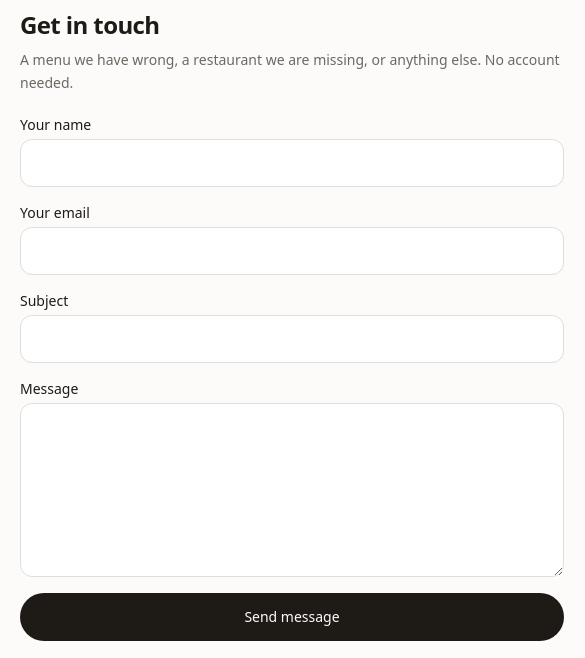
Test: ContactPage › sends what was typed
The image size is (585, 658).
Expected: the button "Send message" is shown, [20, 592, 564, 640]
In the field labelled "Your name": coordinates (292, 162) [20, 138, 564, 186], type "Luis"
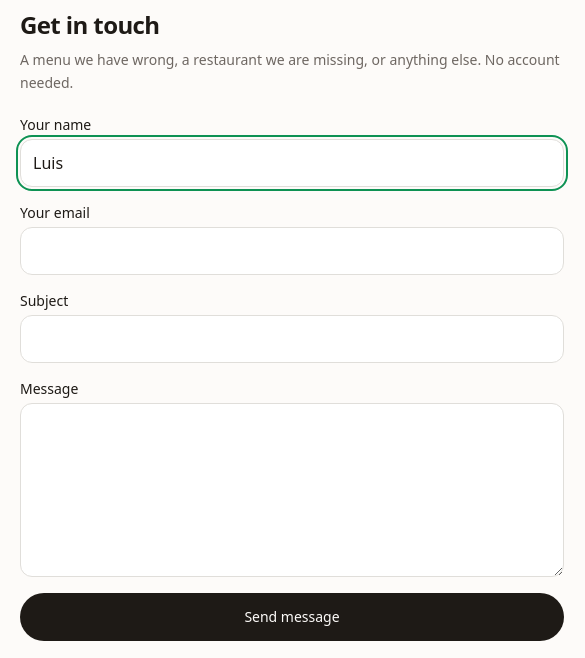
In the field labelled "Your email": coordinates (292, 250) [20, 226, 564, 274], type "luis@example.invalid"
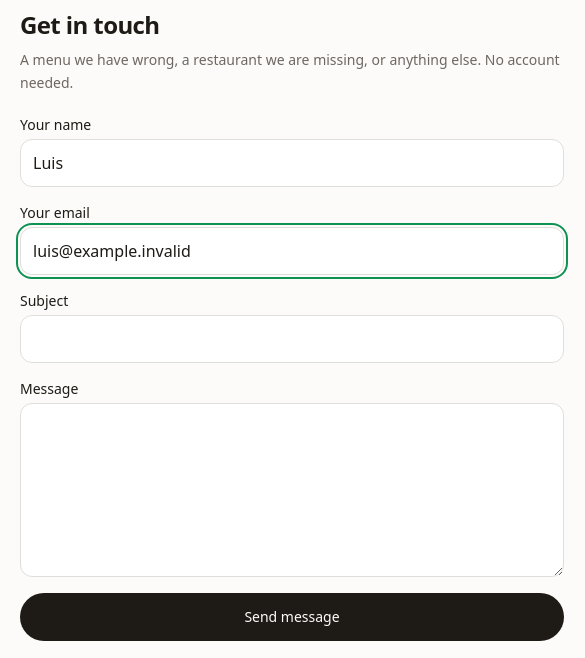
In the field labelled "Subject": coordinates (292, 338) [20, 314, 564, 362], type "A missing restaurant"
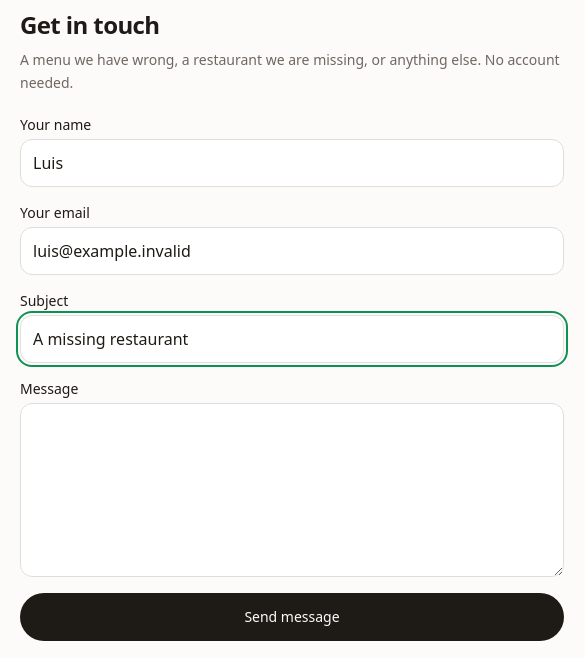
In the text box labelled "Message": coordinates (292, 490) [20, 402, 564, 576], type "There is a dumpling place on Main Street you are missing."
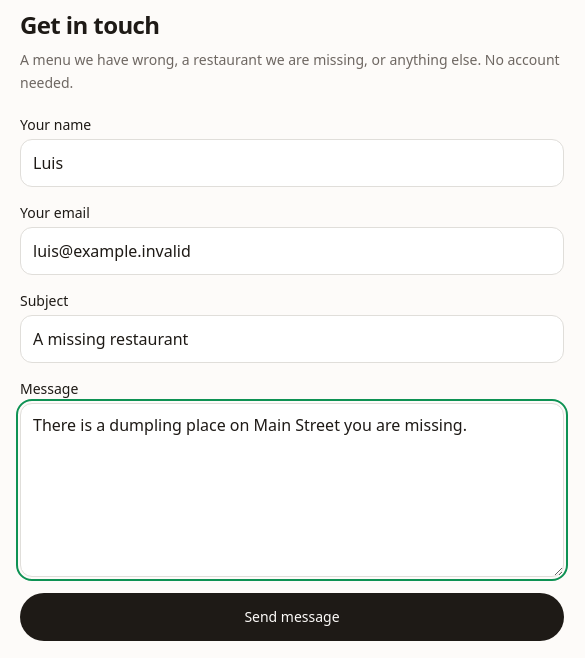
Click the button "Send message": coordinates (292, 616) [20, 592, 564, 640]
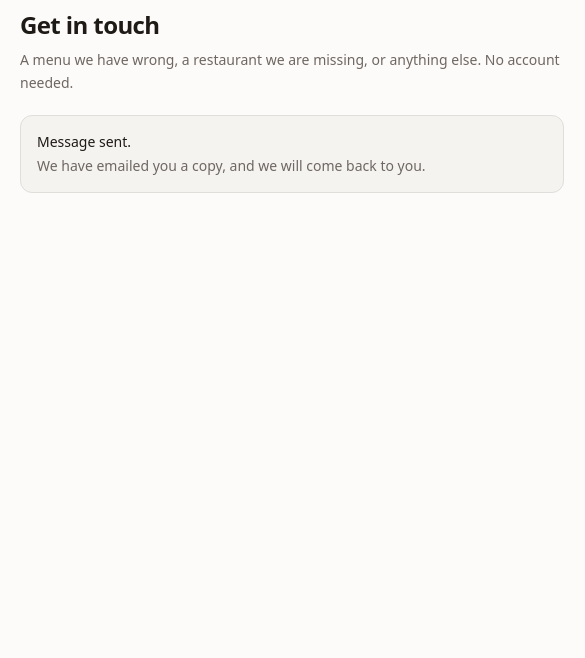
Expected: the text "Message sent." is shown, [37, 132, 131, 150]
